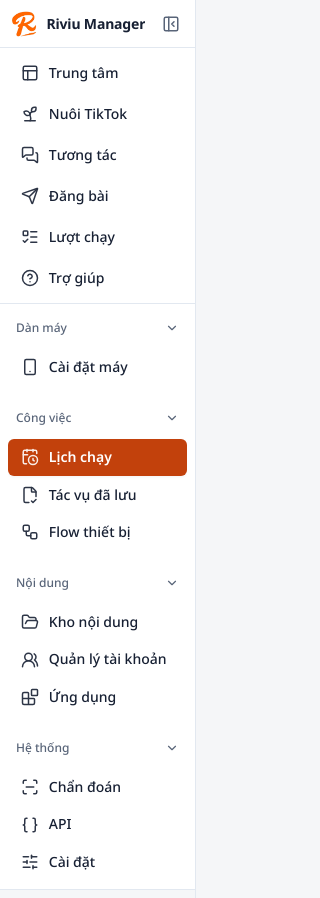
Scenario: Sidebar information architecture › marks a collapsed group containing the current page
The width and height of the screenshot is (320, 898).
Click the button "Công việc" at (98,418), box [16,402,179,434]
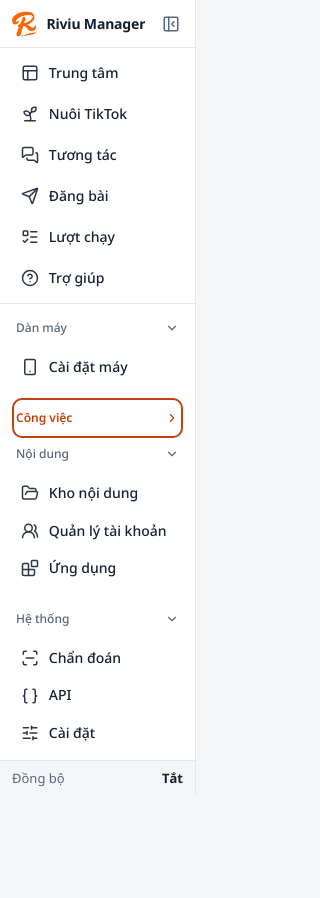
Now the button "Công việc" is collapsed, box [16,402,179,434]
